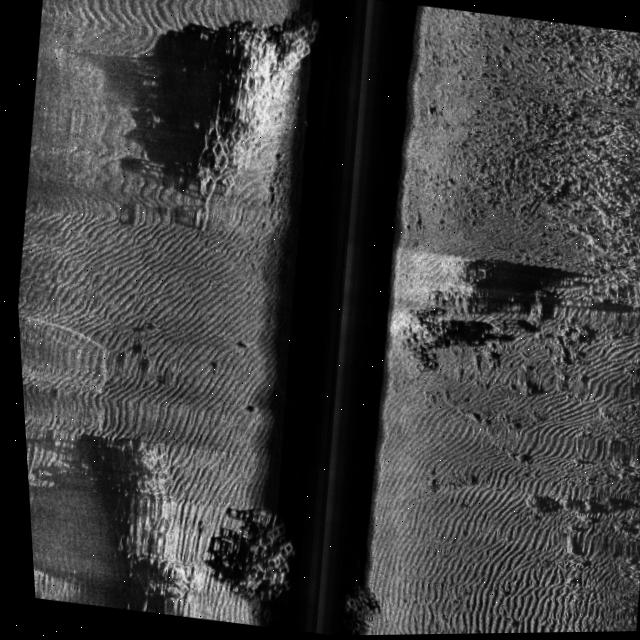artificial reef: (168, 10, 338, 256), (196, 492, 298, 623), (325, 573, 371, 637)
